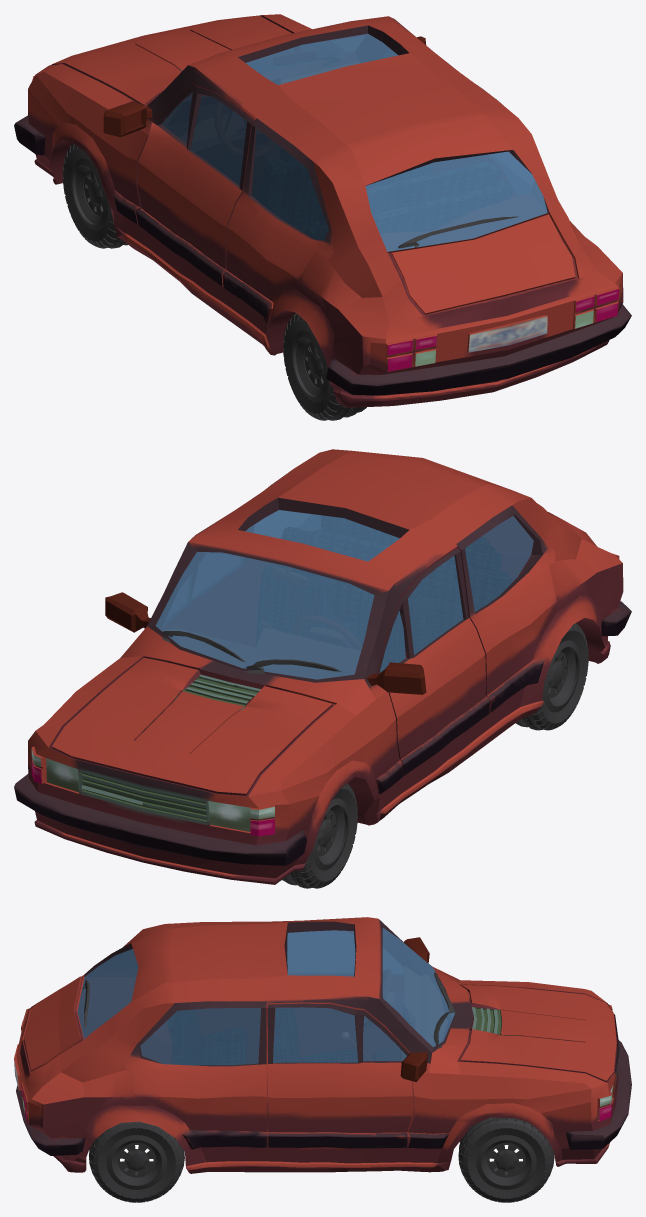
Rendered from car.glb.
3 views of the same model, one above another, from view 1: azimuth 30°, elevation 25°; view 2: azimuth 150°, elevation 25°; view 3: azimuth 270°, elevation 25° (orthographic). The views are drawn at different scales.
Visible parts, largest first — view 1: chasis-col, Windows, Seat_back, wheel_bl-wheel, Wheel_fl-wheel, Seat_front_r, Dash, SideMirror_l, MiddleConsole, Steering_Whl, Wiper3; view 2: chasis-col, Windows, Seat_back, Dash, Seat_front_l, wheel_bl-wheel, Wheel_fl-wheel, Seat_front_r, SideMirror_l, SideMirror_r, Steering_Whl, Wiper1; view 3: chasis-col, Windows, wheel_fr-wheel, wheel_br-wheel, Seat_back, Dash, Seat_front_r, Seat_front_l, SideMirror_r.
Part boxes in pixels (<box>): chasis-col: <box>14,14,631,407</box>; Windows: <box>161,33,547,251</box>; Seat_back: <box>305,162,511,239</box>; wheel_bl-wheel: <box>283,313,366,420</box>; Wheel_fl-wheel: <box>62,143,127,248</box>; Seat_front_r: <box>259,148,320,232</box>; Dash: <box>162,62,358,158</box>; SideMirror_l: <box>103,101,152,137</box>; MiddleConsole: <box>208,143,279,199</box>; Steering_Whl: <box>215,101,276,157</box>; Wiper3: <box>395,216,518,249</box>; chasis-col: <box>14,449,631,884</box>; Windows: <box>155,510,533,679</box>; Seat_back: <box>314,516,511,640</box>; Dash: <box>162,628,360,678</box>; Seat_front_l: <box>256,527,335,644</box>; wheel_bl-wheel: <box>515,623,588,730</box>; Wheel_fl-wheel: <box>282,783,357,888</box>; Seat_front_r: <box>357,585,433,671</box>; SideMirror_l: <box>366,662,426,694</box>; SideMirror_r: <box>105,592,150,632</box>; Steering_Whl: <box>294,616,361,650</box>; Wiper1: <box>245,659,345,674</box>; chasis-col: <box>14,917,631,1173</box>; Windows: <box>77,928,454,1065</box>; wheel_fr-wheel: <box>458,1117,554,1202</box>; wheel_br-wheel: <box>89,1121,184,1202</box>; Seat_back: <box>168,1010,246,1064</box>; Dash: <box>386,967,447,1060</box>; Seat_front_r: <box>281,1008,363,1061</box>; Seat_front_l: <box>273,1008,295,1062</box>; SideMirror_r: <box>400,1051,427,1081</box>.
Bounding box in the file's own units: 5.87 × 4.47 × 11.91.
Materials: 22 (20 with a texture image).
